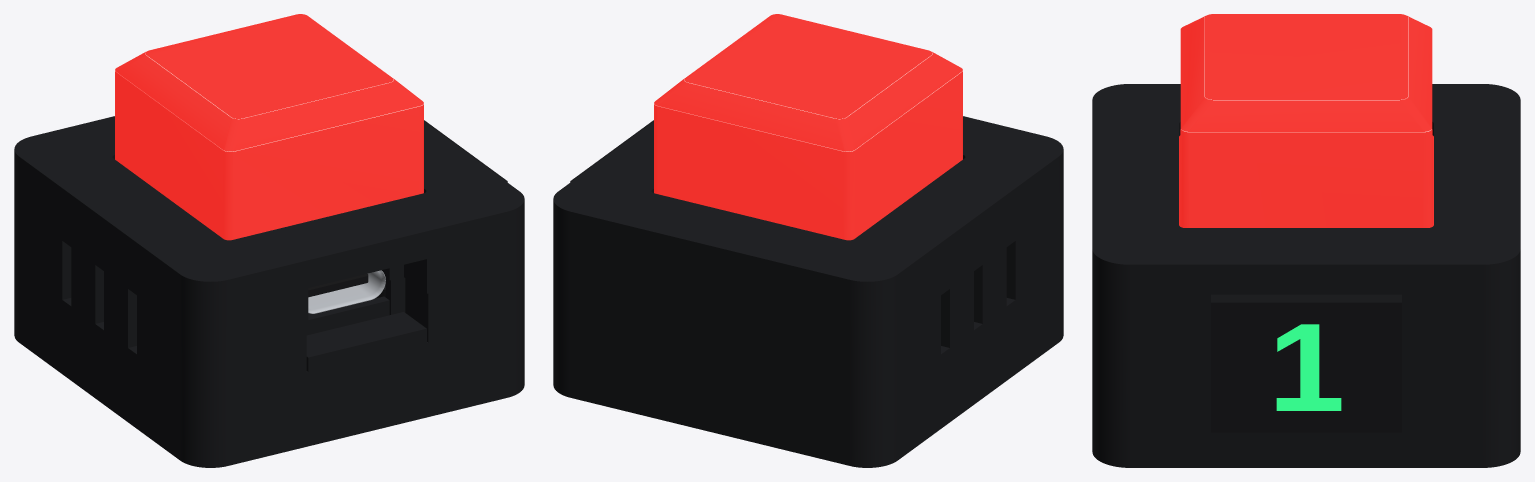
File: cue-360.glb
3 renders of one model, left to right at view 1: azimuth 30°, elevation 25°; view 2: azimuth 150°, elevation 25°; view 3: azimuth 270°, elevation 25°, orthographic. The views are drawn at different scales.
Visible parts, largest first — view 1: body, diffuser-glow, usbc-shell, diffuser, usbc-tongue; view 2: body, diffuser-glow, diffuser; view 3: body, diffuser-glow, tag, tag-number, diffuser.
Boxes of the visible parts, x1,y1,x2,y2 form: body: (14,116,524,467); diffuser-glow: (115,14,423,240); usbc-shell: (308,270,385,313); diffuser: (115,53,423,151); usbc-tongue: (308,274,368,297); body: (553,116,1063,467); diffuser-glow: (654,14,962,240); diffuser: (654,53,962,151); body: (1092,84,1520,467); diffuser-glow: (1179,14,1433,227); tag: (1211,294,1401,432); tag-number: (1276,324,1341,410); diffuser: (1181,17,1431,132).
Bounding box in the file's own units: 0.0384 × 0.0296 × 0.0358.
